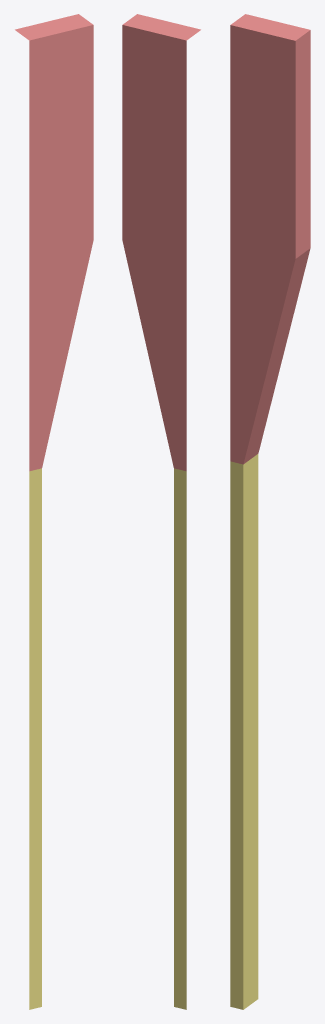
Rendered from altar_deco02.gltf.
The picture shows the model from 3 angles, left to right: view 1: azimuth 30°, elevation 25°; view 2: azimuth 150°, elevation 25°; view 3: azimuth 330°, elevation 25°; orthographic projection.
Parts seen in each view (by area): view 1: altar_deco02; view 2: altar_deco02; view 3: altar_deco02.
Boxes of the visible parts, x1,y1,x2,y2 form: altar_deco02: [15, 14, 93, 1009]; altar_deco02: [122, 14, 200, 1009]; altar_deco02: [230, 14, 310, 1009].
Size of the model in its own units: 1.6 by 23.04 by 0.64.
